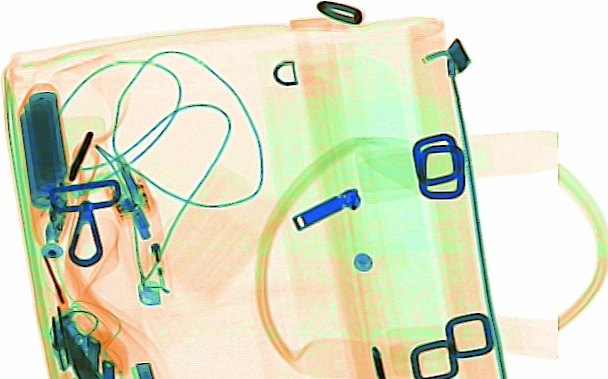lighter: (129, 189, 172, 307)
powerbank: (16, 80, 72, 231)
